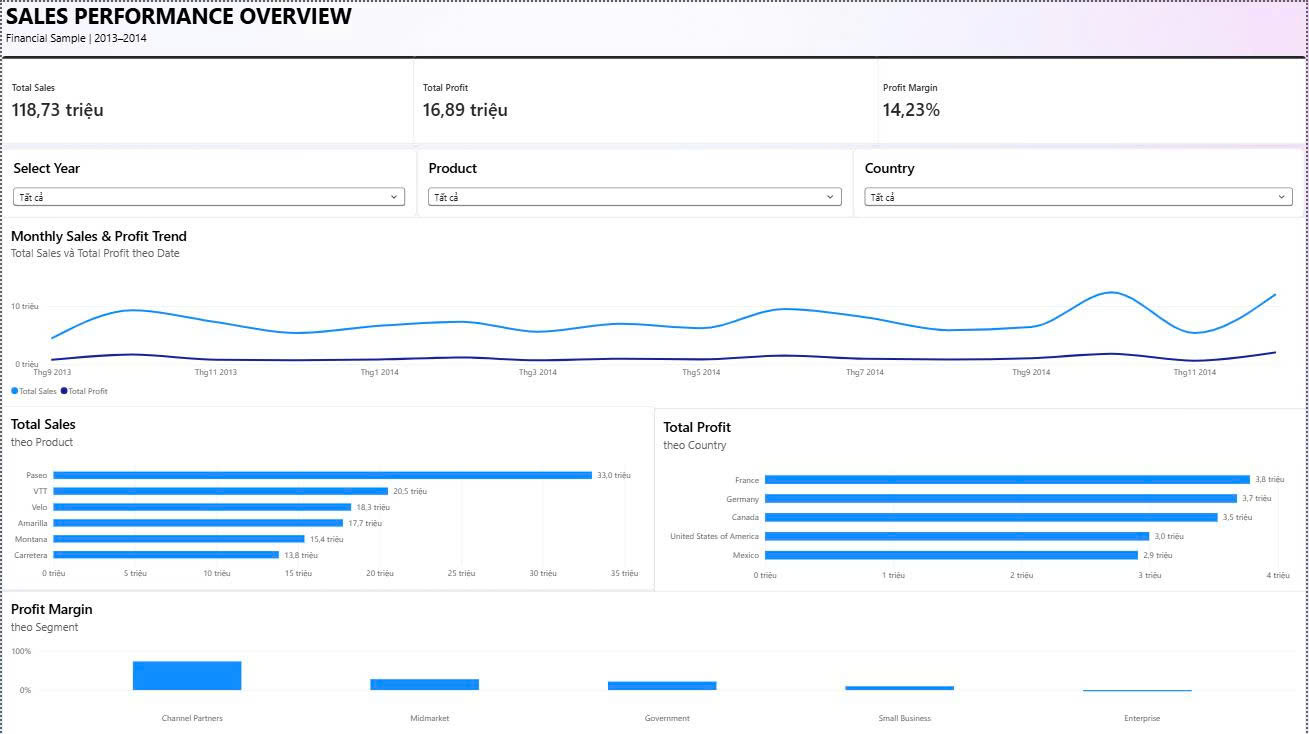

The page's visual inventory and layout, read from the dashboard file:
{"tool":"powerbi","page":{"name":"Sales Overview","canvas":[1920,1080],"ordinal":0},"visuals":[{"type":"lineChart","title":"Monthly Sales & Profit Trend","fields":{"Category":["financials.Date"],"Y":["financials.Total Sales","financials.Total Profit"]},"box":[0,317.9,1919.7,282.1],"z":0},{"type":"clusteredBarChart","fields":{"Category":["financials.Product"],"Y":["financials.Total Sales"]},"box":[0,596.4,960.7,271.4],"z":1000},{"type":"clusteredBarChart","fields":{"Category":["financials.Country"],"Y":["financials.Total Profit"]},"box":[960.7,600,958.9,271.4],"z":2000},{"type":"listSlicer","title":"Select Year","fields":{"Values":["financials.Date.Variation.Phân cấp ngày tháng.Năm"]},"box":[0.3,216.8,610.7,101.8],"z":3000},{"type":"clusteredColumnChart","fields":{"Category":["financials.Segment"],"Y":["financials.Profit Margin"]},"box":[0,867.9,1919.7,212.5],"z":4000},{"type":"cardVisual","fields":{"Data":["financials.Total Sales"]},"box":[0,81.8,610.7,130.4],"z":6000},{"type":"cardVisual","fields":{"Data":["financials.Profit Margin"]},"box":[1282.5,81.8,637.5,130.4],"z":7000},{"type":"cardVisual","fields":{"Data":["financials.Total Profit"]},"box":[605.5,81,685.7,130.4],"z":8000},{"type":"listSlicer","fields":{"Values":["financials.Product"]},"box":[611,217.2,642.3,101.2],"z":9000},{"type":"textbox","box":[5.4,0,648.2,83.9],"z":10000},{"type":"listSlicer","fields":{"Values":["financials.Country"]},"box":[1254.1,217.5,664.3,101.9],"z":10001}]}

Visuals, with their boxes in screenshot pixels (x1, y1, x2, y2), scaled from the page's 1920x1080 canvas onto the 1309x734 screenshot:
"Monthly Sales & Profit Trend" lineChart: l=0, t=216, r=1308, b=408
clusteredBarChart - financials.Product x financials.Total Sales: l=0, t=405, r=655, b=590
clusteredBarChart - financials.Country x financials.Total Profit: l=655, t=408, r=1308, b=592
"Select Year" listSlicer: l=0, t=147, r=417, b=217
clusteredColumnChart - financials.Segment x financials.Profit Margin: l=0, t=590, r=1308, b=733
cardVisual - financials.Total Sales: l=0, t=56, r=416, b=144
cardVisual - financials.Profit Margin: l=874, t=56, r=1308, b=144
cardVisual - financials.Total Profit: l=413, t=55, r=880, b=144
listSlicer - financials.Product: l=417, t=148, r=854, b=216
textbox: l=4, t=0, r=446, b=57
listSlicer - financials.Country: l=855, t=148, r=1308, b=217
